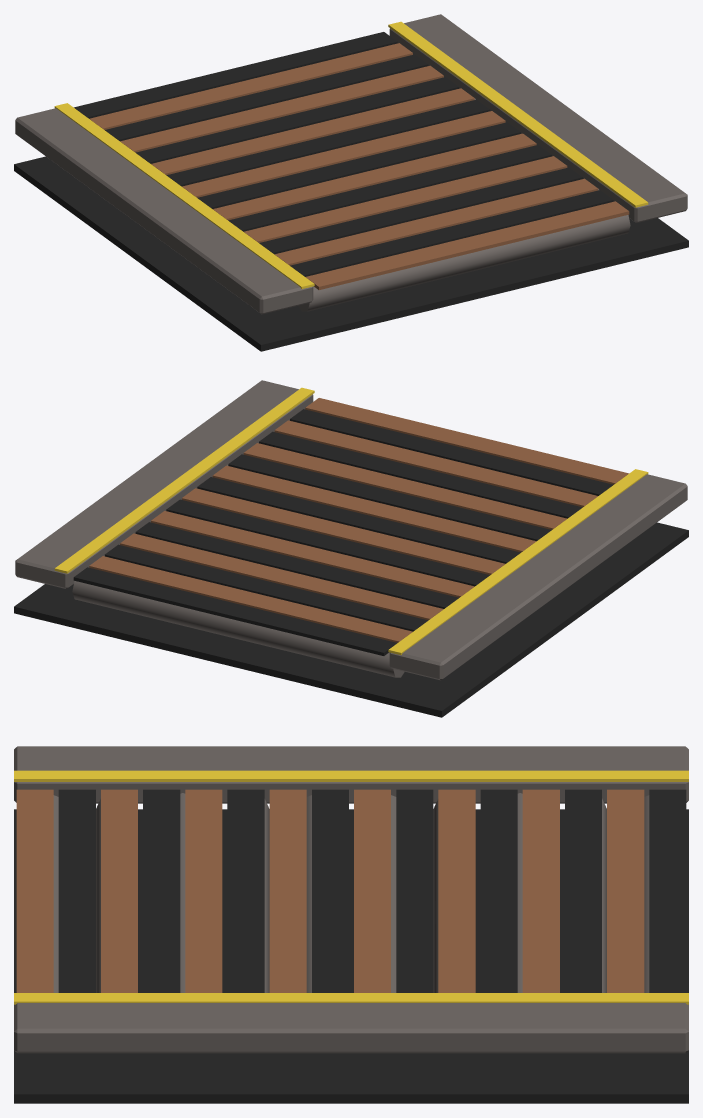
Rendered from floor_wk_belt.glb.
The picture shows the model from 3 angles, top to bottom: view 1: azimuth 30°, elevation 25°; view 2: azimuth 150°, elevation 25°; view 3: azimuth 270°, elevation 25°; orthographic projection. The views are drawn at different scales.
Visible parts, largest first — view 1: floor_wk_belt; view 2: floor_wk_belt; view 3: floor_wk_belt.
Part boxes in pixels (left/top/right/bottom): floor_wk_belt: left=14, top=14, right=688, bottom=351; floor_wk_belt: left=14, top=380, right=688, bottom=717; floor_wk_belt: left=14, top=746, right=688, bottom=1103.
Size of the model in its own units: 4 by 0.49 by 4.
